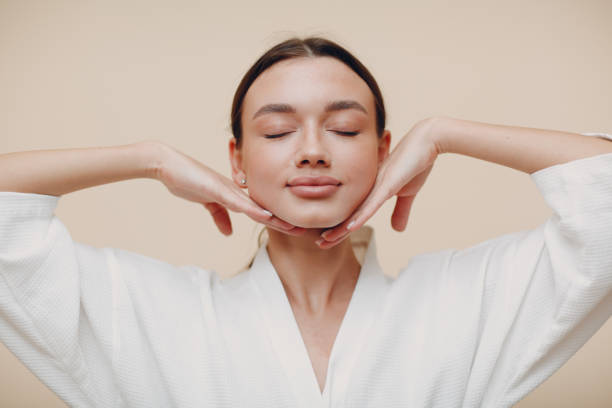without mask: (223, 32, 403, 237)
